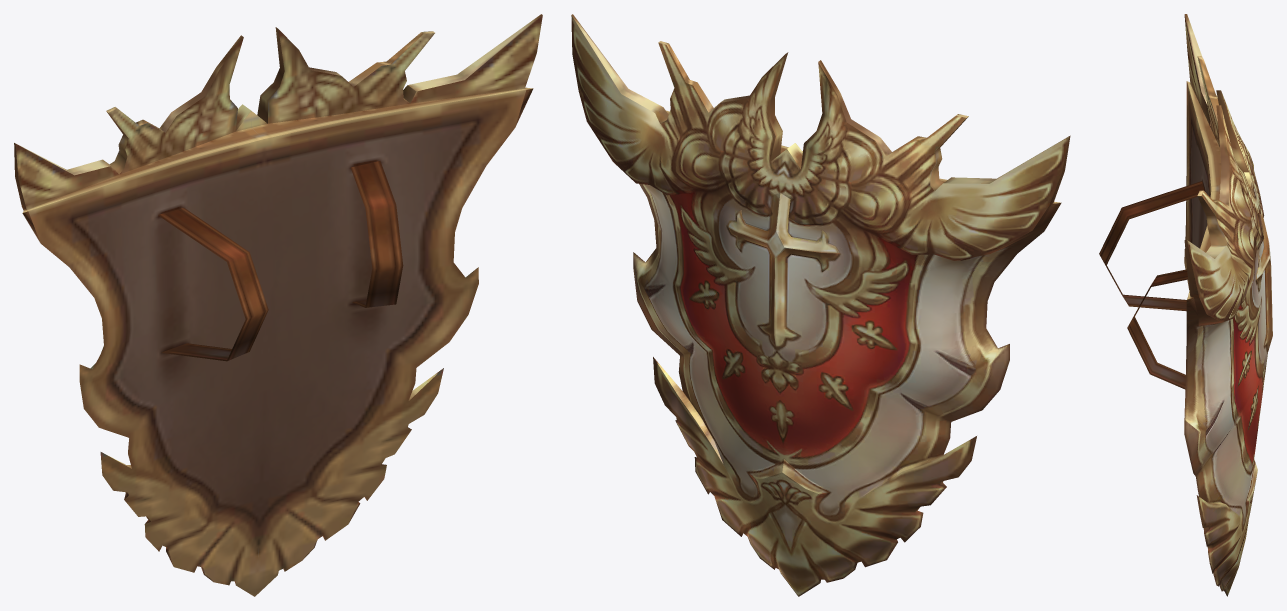
File: Hero_Klaus_Vari05_Shield.fbx
3 views of the same model, side by side, from view 1: azimuth 30°, elevation 25°; view 2: azimuth 150°, elevation 25°; view 3: azimuth 270°, elevation 25° (orthographic). The views are drawn at different scales.
Visible parts, largest first — view 1: Hero_Clause_Vari05_Shield; view 2: Hero_Clause_Vari05_Shield; view 3: Hero_Clause_Vari05_Shield.
Boxes of the visible parts, x1=… form: Hero_Clause_Vari05_Shield: x1=14, y1=14, x2=542, y2=596; Hero_Clause_Vari05_Shield: x1=571, y1=14, x2=1070, y2=596; Hero_Clause_Vari05_Shield: x1=1099, y1=14, x2=1272, y2=596.
Bounding box in the file's own units: 0.9979 × 1.03 × 0.3247.
1 material, 1 textured.
